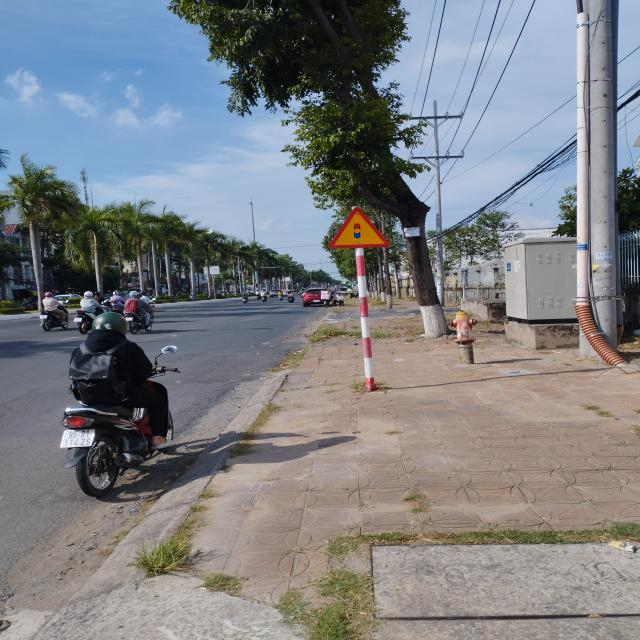Duong_Co_Go_Giam_Toc: (329, 207, 388, 248)
